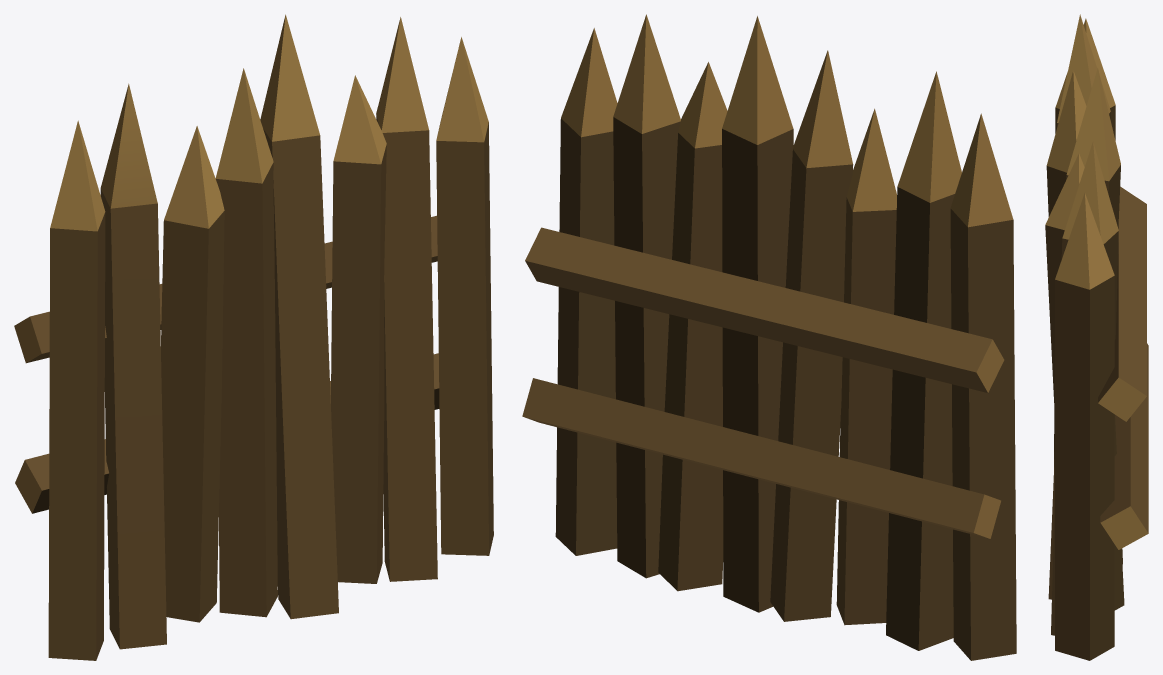
File: SpikeFence_04.fbx
The picture shows the model from 3 angles, left to right: view 1: azimuth 30°, elevation 25°; view 2: azimuth 150°, elevation 25°; view 3: azimuth 270°, elevation 25°; orthographic projection. The views are drawn at different scales.
Parts seen in each view (by area): view 1: SpikeFence_04; view 2: SpikeFence_04; view 3: SpikeFence_04.
Part boxes in pixels (<box>): SpikeFence_04: <box>14,14,493,660</box>; SpikeFence_04: <box>522,14,1016,660</box>; SpikeFence_04: <box>1045,14,1148,660</box>.
Size of the model in its own units: 3.02 by 0.6767 by 3.76.
